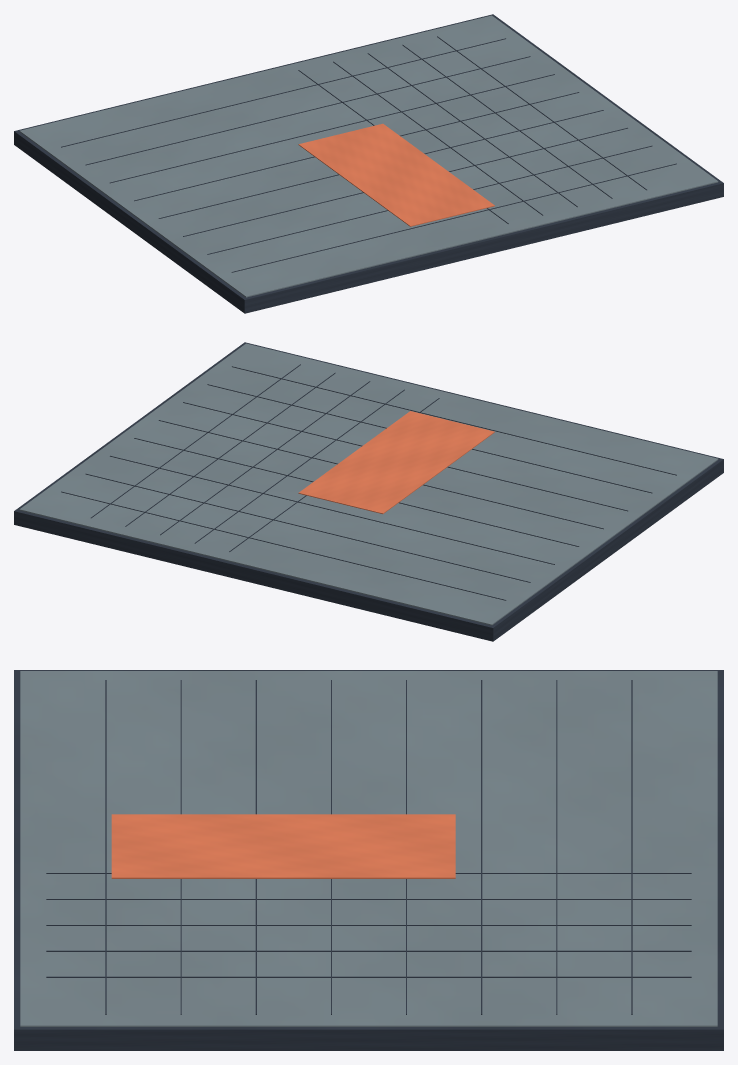
The model's file is atlas100-s022-a07.lod2.glb.
The picture shows the model from 3 angles, top to bottom: view 1: azimuth 30°, elevation 25°; view 2: azimuth 150°, elevation 25°; view 3: azimuth 270°, elevation 25°; orthographic projection. The views are drawn at different scales.
Visible parts, largest first — view 1: atlas100-s022-a07:part-001, atlas100-s022-a07:part-000, atlas100-s022-a07:part-021, atlas100-s022-a07:part-020, atlas100-s022-a07:part-014, atlas100-s022-a07:part-013, atlas100-s022-a07:part-015, atlas100-s022-a07:part-016, atlas100-s022-a07:part-018, atlas100-s022-a07:part-019, atlas100-s022-a07:part-017; view 2: atlas100-s022-a07:part-001, atlas100-s022-a07:part-000, atlas100-s022-a07:part-021, atlas100-s022-a07:part-013, atlas100-s022-a07:part-014, atlas100-s022-a07:part-015, atlas100-s022-a07:part-020, atlas100-s022-a07:part-017, atlas100-s022-a07:part-019, atlas100-s022-a07:part-018, atlas100-s022-a07:part-016; view 3: atlas100-s022-a07:part-001, atlas100-s022-a07:part-000, atlas100-s022-a07:part-021, atlas100-s022-a07:part-011, atlas100-s022-a07:part-012, atlas100-s022-a07:part-013, atlas100-s022-a07:part-014, atlas100-s022-a07:part-015, atlas100-s022-a07:part-020, atlas100-s022-a07:part-010, atlas100-s022-a07:part-009.
Part boxes in pixels (bbox=[...]): atlas100-s022-a07:part-001: bbox=[19, 15, 718, 297]; atlas100-s022-a07:part-000: bbox=[14, 14, 723, 313]; atlas100-s022-a07:part-021: bbox=[298, 123, 494, 226]; atlas100-s022-a07:part-020: bbox=[231, 163, 676, 272]; atlas100-s022-a07:part-014: bbox=[85, 56, 530, 165]; atlas100-s022-a07:part-013: bbox=[61, 38, 505, 147]; atlas100-s022-a07:part-015: bbox=[110, 74, 554, 183]; atlas100-s022-a07:part-016: bbox=[134, 92, 579, 201]; atlas100-s022-a07:part-018: bbox=[183, 127, 627, 236]; atlas100-s022-a07:part-019: bbox=[207, 145, 652, 254]; atlas100-s022-a07:part-017: bbox=[158, 110, 603, 218]; atlas100-s022-a07:part-001: bbox=[19, 343, 718, 625]; atlas100-s022-a07:part-000: bbox=[14, 342, 723, 641]; atlas100-s022-a07:part-021: bbox=[298, 411, 494, 513]; atlas100-s022-a07:part-013: bbox=[61, 491, 506, 600]; atlas100-s022-a07:part-014: bbox=[85, 473, 530, 582]; atlas100-s022-a07:part-015: bbox=[110, 455, 554, 564]; atlas100-s022-a07:part-020: bbox=[232, 366, 676, 475]; atlas100-s022-a07:part-017: bbox=[158, 420, 603, 529]; atlas100-s022-a07:part-019: bbox=[207, 384, 652, 493]; atlas100-s022-a07:part-018: bbox=[183, 402, 627, 511]; atlas100-s022-a07:part-016: bbox=[134, 438, 579, 546]; atlas100-s022-a07:part-001: bbox=[20, 671, 717, 1026]; atlas100-s022-a07:part-000: bbox=[14, 670, 723, 1050]; atlas100-s022-a07:part-021: bbox=[111, 814, 455, 878]; atlas100-s022-a07:part-011: bbox=[46, 950, 691, 951]; atlas100-s022-a07:part-012: bbox=[46, 976, 691, 977]; atlas100-s022-a07:part-013: bbox=[631, 680, 632, 1014]; atlas100-s022-a07:part-014: bbox=[556, 680, 557, 1014]; atlas100-s022-a07:part-015: bbox=[481, 680, 482, 1014]; atlas100-s022-a07:part-020: bbox=[105, 680, 106, 1014]; atlas100-s022-a07:part-010: bbox=[46, 925, 691, 925]; atlas100-s022-a07:part-009: bbox=[46, 899, 691, 899].
Bounding box in the file's own units: 12.46 × 0.404 × 10.4.
Materials: 3 (3 with a texture image).
